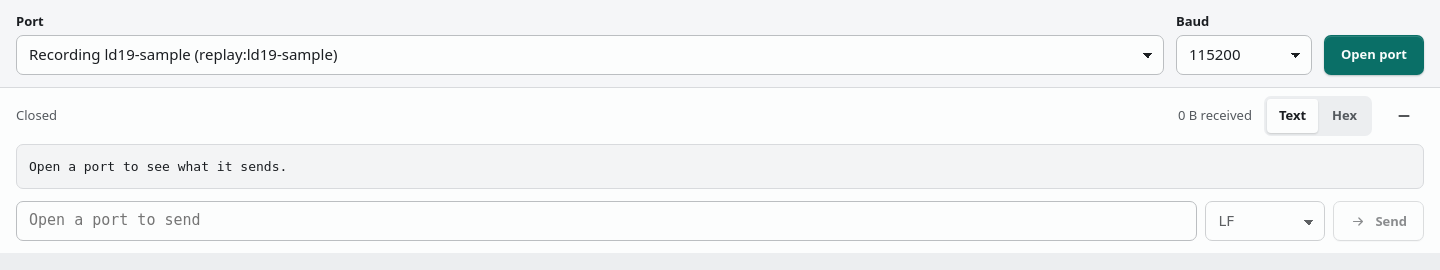
Test: Serial monitor › says why the port closed when the core closes it
Click the button "Open port": (1374,55) [1324,35,1424,75]
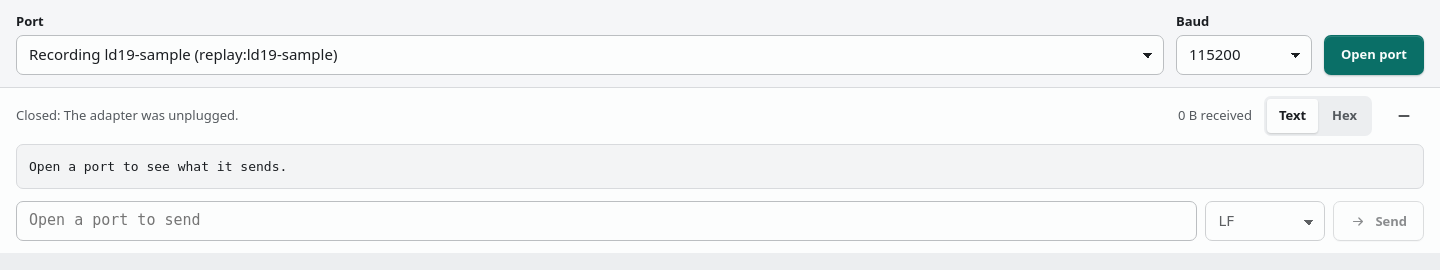
Check: the text "Closed: The adapter was unplugged. 0 B received" is shown, box [16,106,1252,125]
